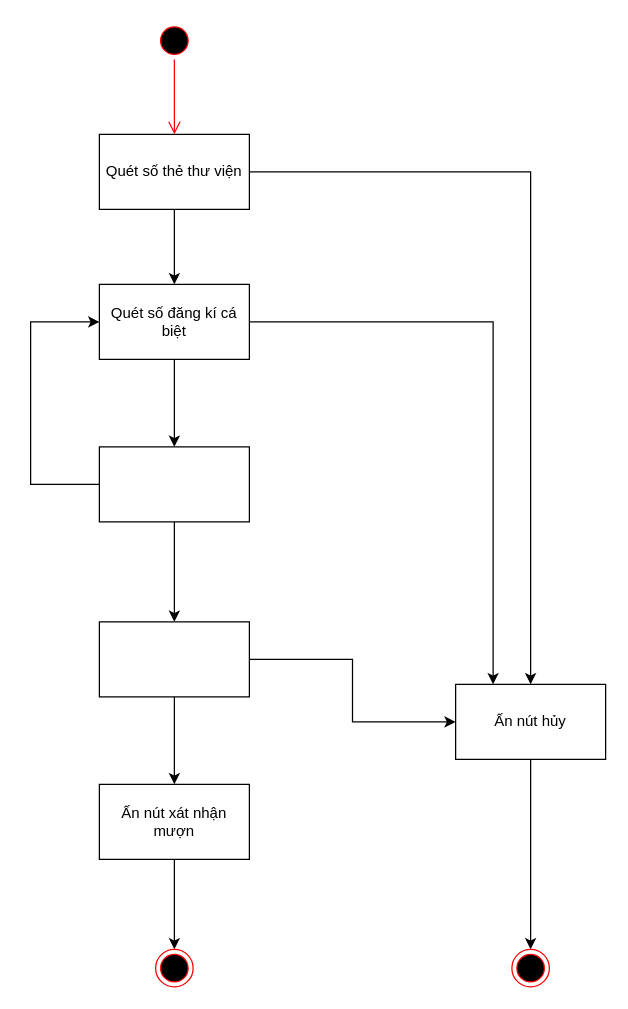
Image size: 628x1009. Some labels were removed from this diagram. The shapes that lost their labels are listed below. From the top down, each one's centre as x and y in pixels, then its label:
the point at 173,484: Ấn nút thêm
the point at 173,659: Thêm sách vào danh sách chuẩn bị mượn
